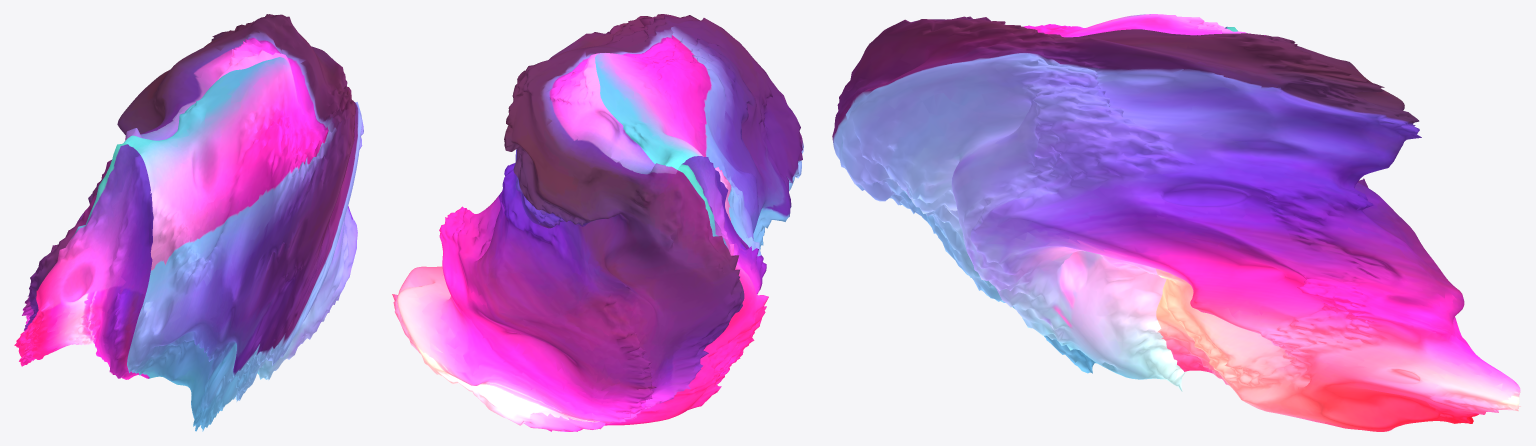
The model's file is neon-organisms-3-Neon-2.glb.
The picture shows the model from 3 angles, left to right: view 1: azimuth 30°, elevation 25°; view 2: azimuth 150°, elevation 25°; view 3: azimuth 270°, elevation 25°; orthographic projection. The views are drawn at different scales.
Parts seen in each view (by area): view 1: 02; view 2: 02; view 3: 02.
Boxes of the visible parts, x1,y1,x2,y2 form: 02: (14, 14, 363, 431); 02: (392, 14, 803, 431); 02: (832, 14, 1520, 431).
Bounding box in the file's own units: 23.75 × 21.28 × 30.76.
Materials: 1 (1 with a texture image).
